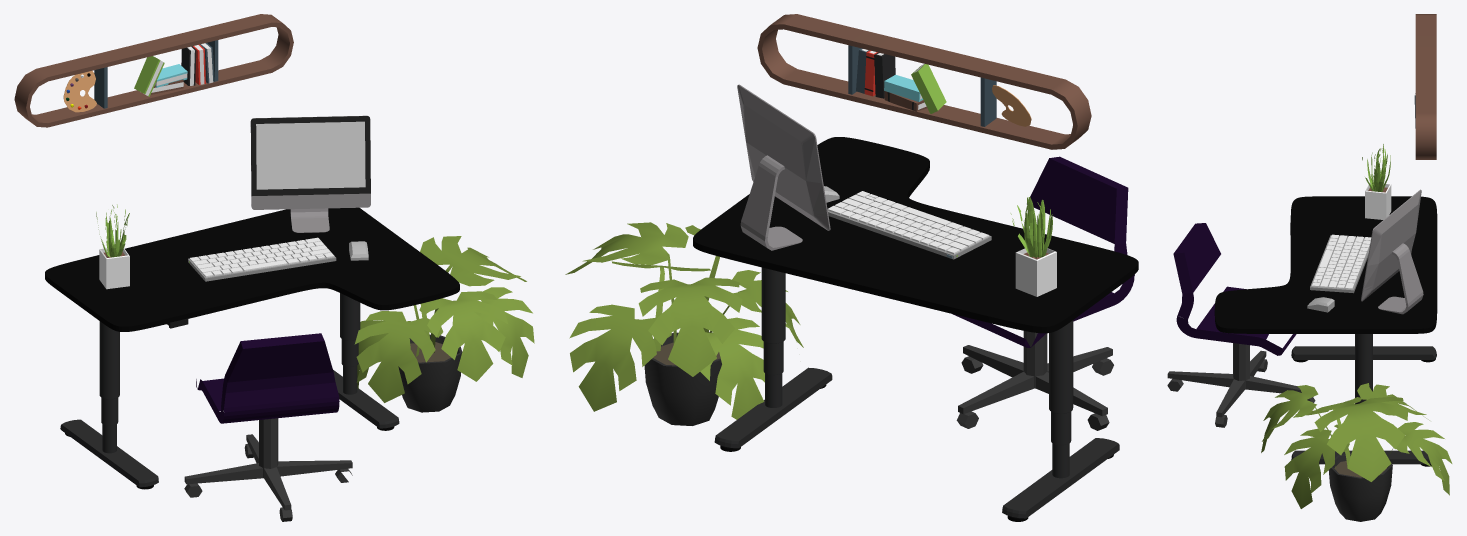
3 renders of one model, left to right at view 1: azimuth 30°, elevation 25°; view 2: azimuth 150°, elevation 25°; view 3: azimuth 270°, elevation 25°, orthographic. The views are drawn at different scales.
Visible parts, largest first — view 1: Desk, Houseplant_7, Chair, iMac, SM_Shelf:SM_Shelf1, keyboard, group1445929716.002, plant, Node; view 2: Desk, Houseplant_7, SM_Shelf:SM_Shelf1, Chair, iMac, keyboard, group1445929716.002, plant, Node; view 3: Desk, Houseplant_7, Chair, iMac, SM_Shelf:SM_Shelf1, keyboard, plant.
Boxes of the visible parts, box(x1,y1,x2,y2) form: Desk: box(45, 207, 459, 489); Houseplant_7: box(354, 236, 534, 412); Chair: box(184, 333, 352, 521); iMac: box(250, 115, 370, 232); SM_Shelf:SM_Shelf1: box(14, 14, 293, 127); keyboard: box(188, 237, 336, 281); group1445929716.002: box(134, 43, 214, 96); plant: box(96, 204, 129, 289); Node: box(63, 71, 96, 112); Desk: box(693, 137, 1138, 521); Houseplant_7: box(565, 222, 803, 425); SM_Shelf:SM_Shelf1: box(757, 14, 1091, 149); Chair: box(952, 156, 1134, 430); iMac: box(737, 84, 830, 250); keyboard: box(827, 191, 991, 259); group1445929716.002: box(856, 48, 946, 113); plant: box(1010, 197, 1056, 296); Node: box(992, 85, 1031, 126); Desk: box(1214, 196, 1437, 466); Houseplant_7: box(1261, 383, 1452, 521); Chair: box(1167, 223, 1315, 427); iMac: box(1361, 189, 1423, 314); SM_Shelf:SM_Shelf1: box(1415, 14, 1436, 159); keyboard: box(1310, 234, 1371, 293); plant: box(1362, 144, 1391, 219).
Bounding box in the file's own units: 3.05 × 2.43 × 1.82.
